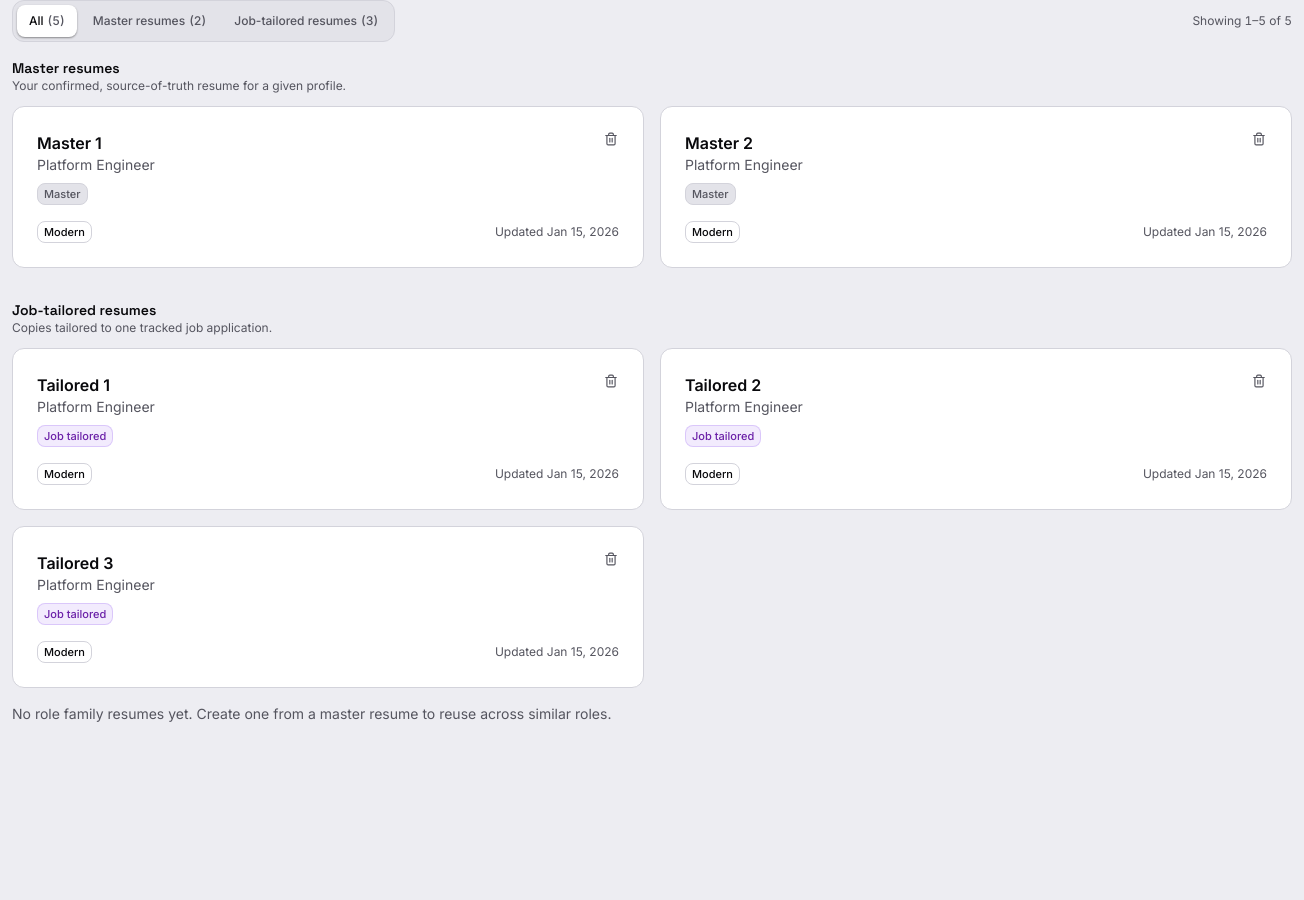
ResumeBrowser filter › narrows the grid to one variant and drops the variant headings
Click the button "Job-tailored resumes (3)". click: (306,21)
box: [222,5,390,37]
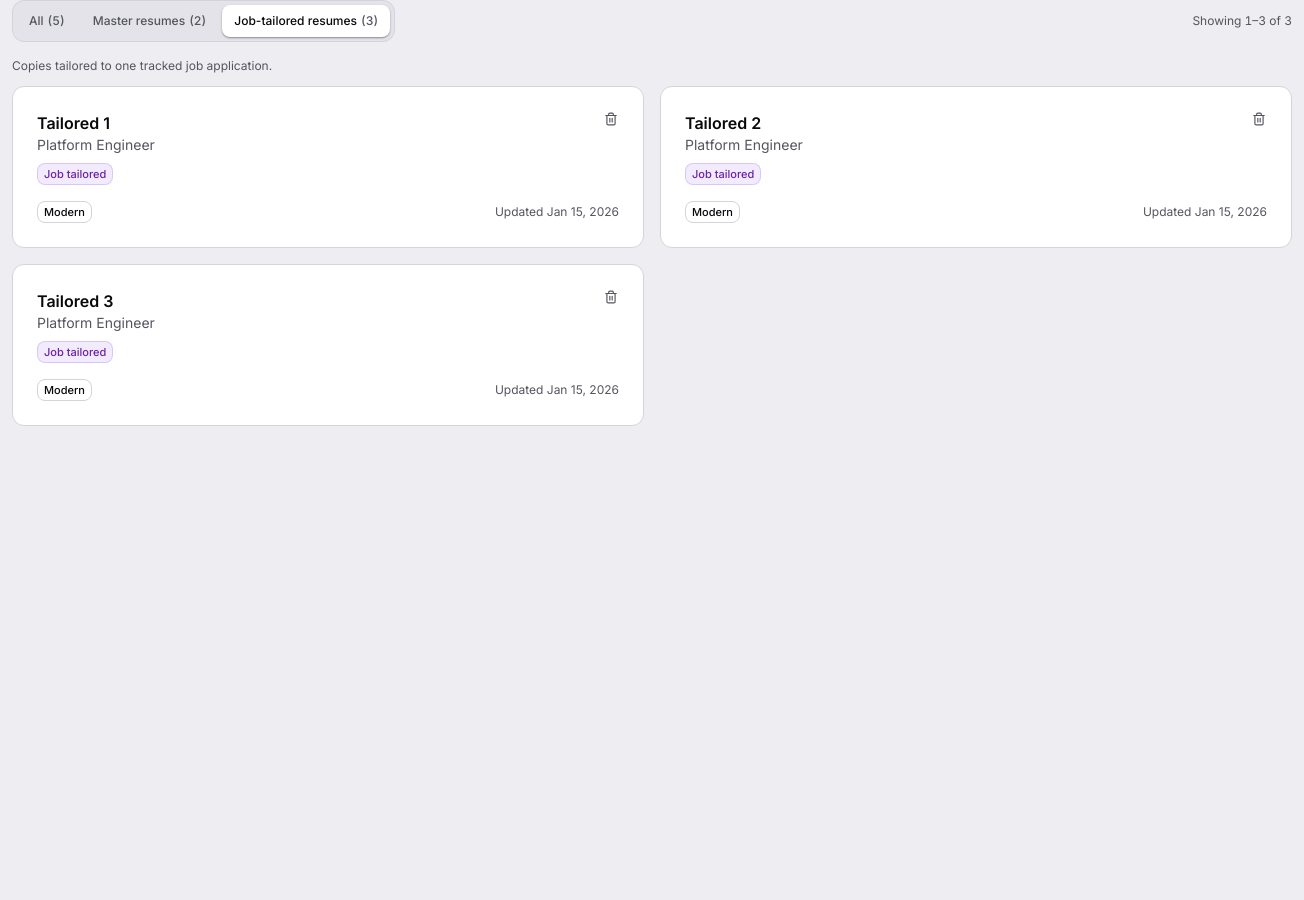
Expected: the link "Tailored 1" is shown, [37,113,110,133]
Now the link "Master 1" is gone
Now the text "Showing 1–3 of 3" is shown, box [1192,13,1292,29]
